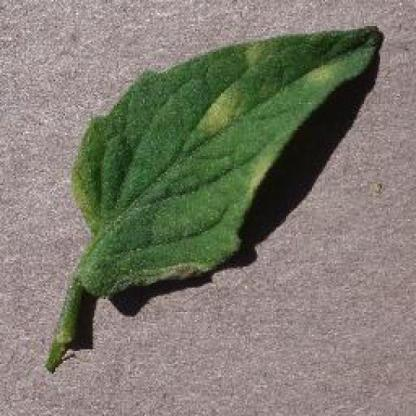Tomato_Leaf_Mold: (78, 28, 385, 283)
